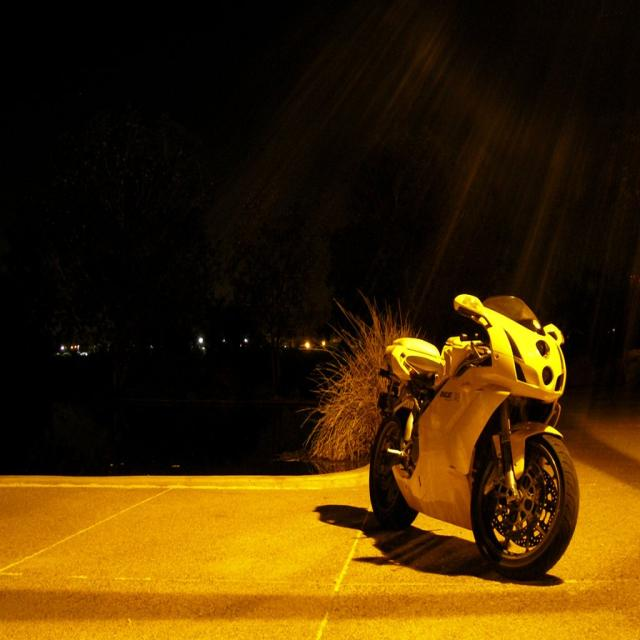Motorbike: (362, 279, 602, 587)
